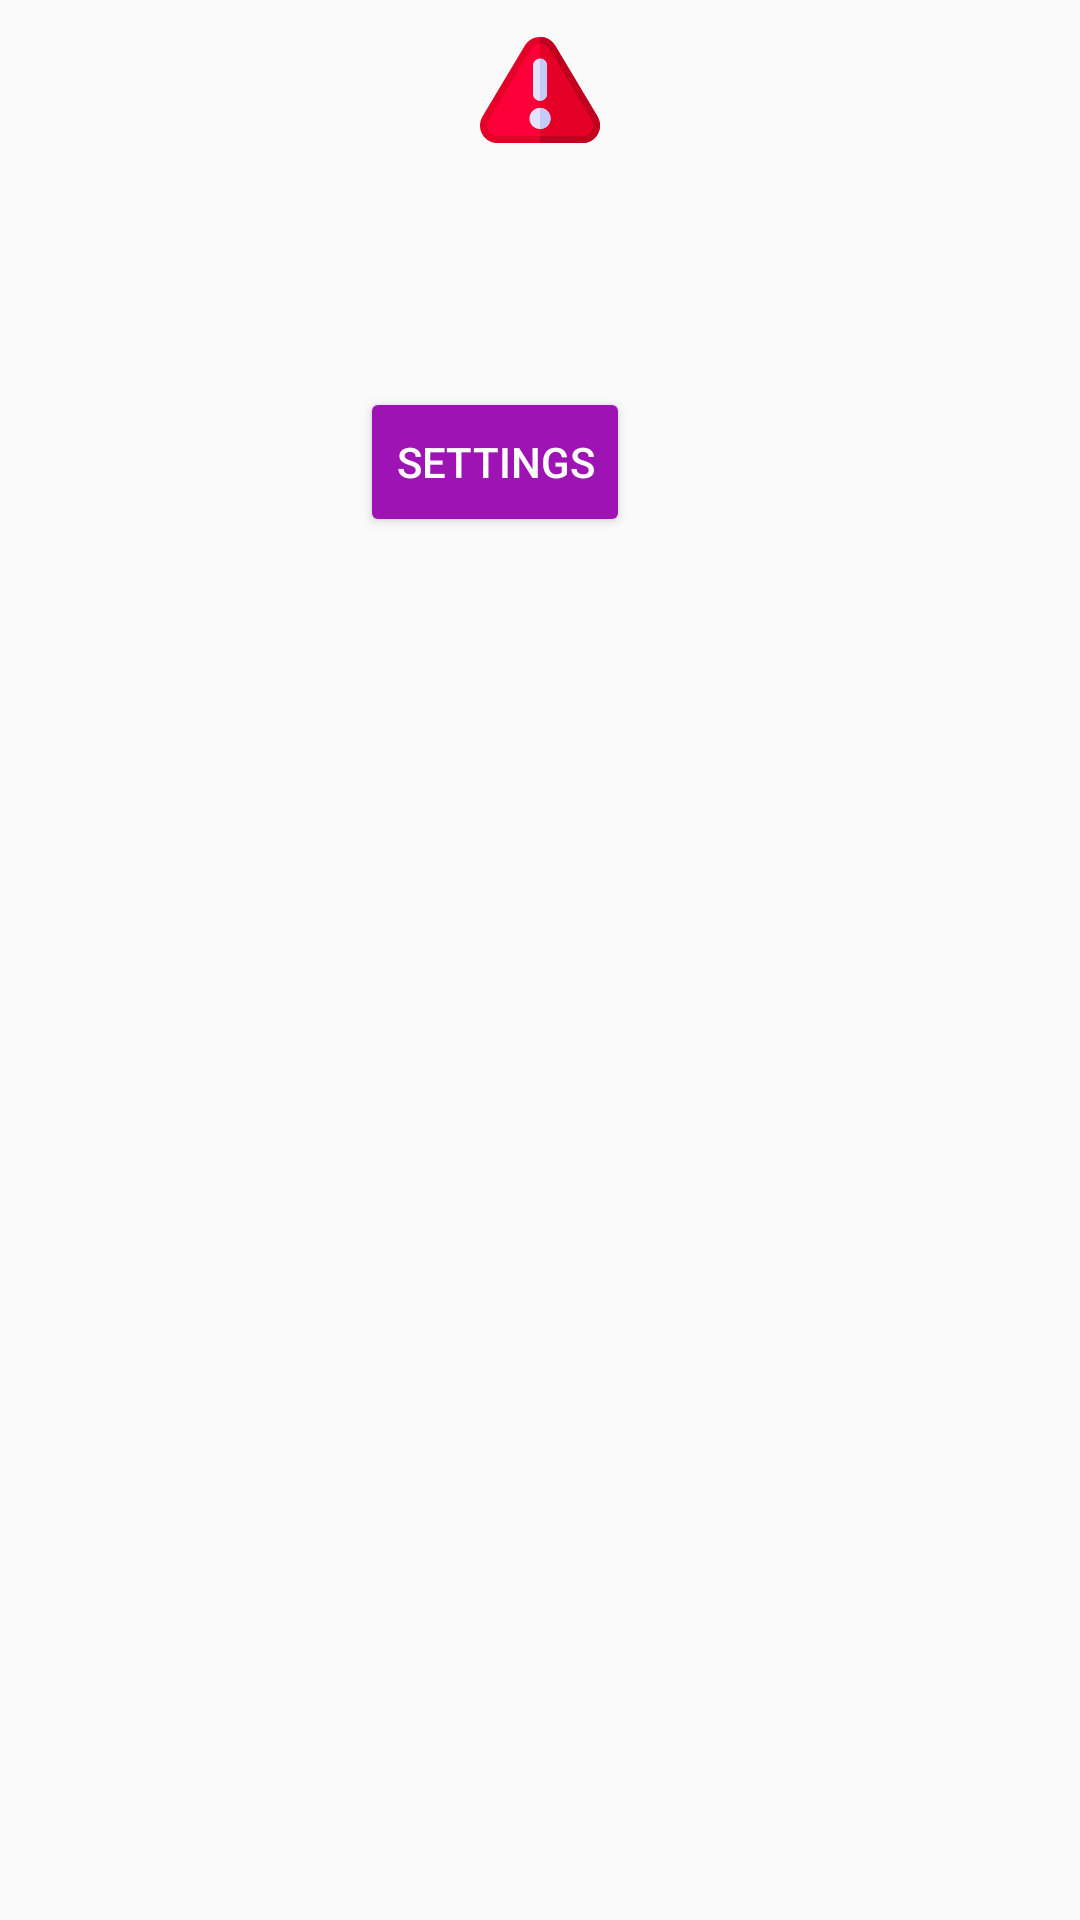

Named icons in this screenshot (1080x1920) and their bounding boxes, (x1, y1, x2, y2):
warning: (480, 37, 600, 143)
